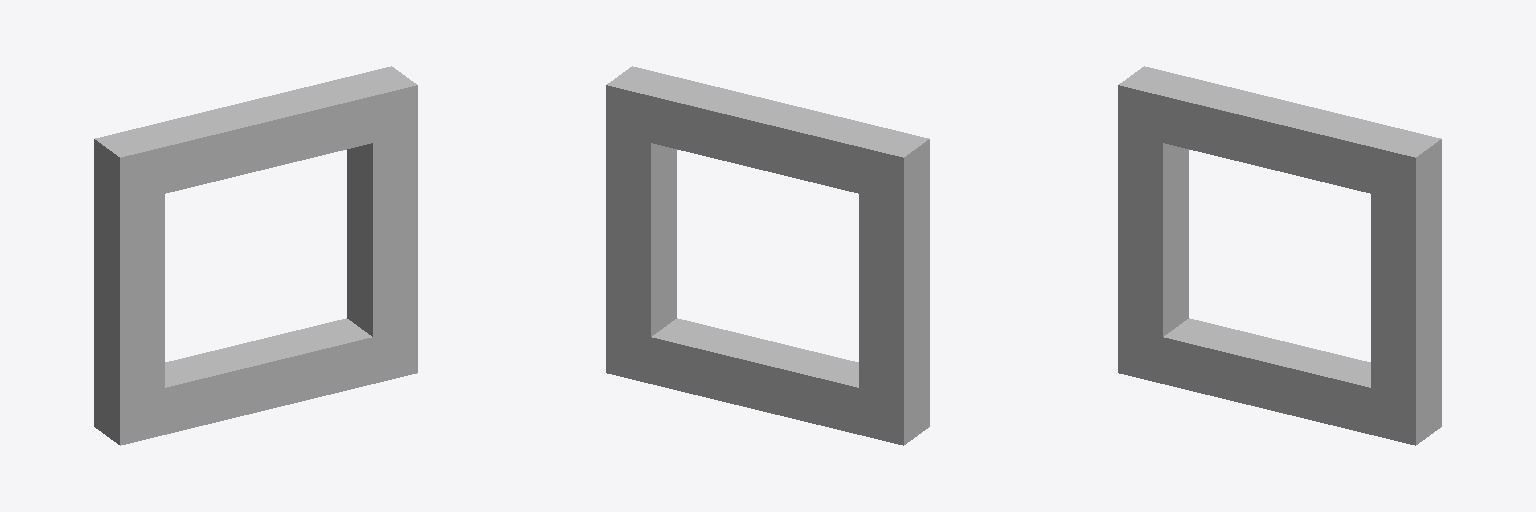
The model's file is square hole box.obj.
3 views of the same model, side by side, from view 1: azimuth 30°, elevation 25°; view 2: azimuth 150°, elevation 25°; view 3: azimuth 330°, elevation 25° (orthographic).
Parts seen in each view (by area): view 1: Object.1, Object.3, Object.2, Object.4; view 2: Object.1, Object.3, Object.2, Object.4; view 3: Object.1, Object.2, Object.3, Object.4.
Boxes of the visible parts, x1=… form: Object.1: x1=117, y1=66, x2=417, y2=198; Object.3: x1=94, y1=133, x2=164, y2=445; Object.2: x1=143, y1=318, x2=417, y2=439; Object.4: x1=347, y1=85, x2=417, y2=375; Object.1: x1=606, y1=66, x2=906, y2=198; Object.3: x1=859, y1=133, x2=929, y2=445; Object.2: x1=606, y1=318, x2=880, y2=439; Object.4: x1=606, y1=94, x2=676, y2=383; Object.1: x1=1141, y1=72, x2=1441, y2=204; Object.2: x1=1141, y1=318, x2=1441, y2=445; Object.3: x1=1118, y1=66, x2=1188, y2=382; Object.4: x1=1371, y1=153, x2=1441, y2=398.
Size of the model in its own units: 265 by 245 by 40.